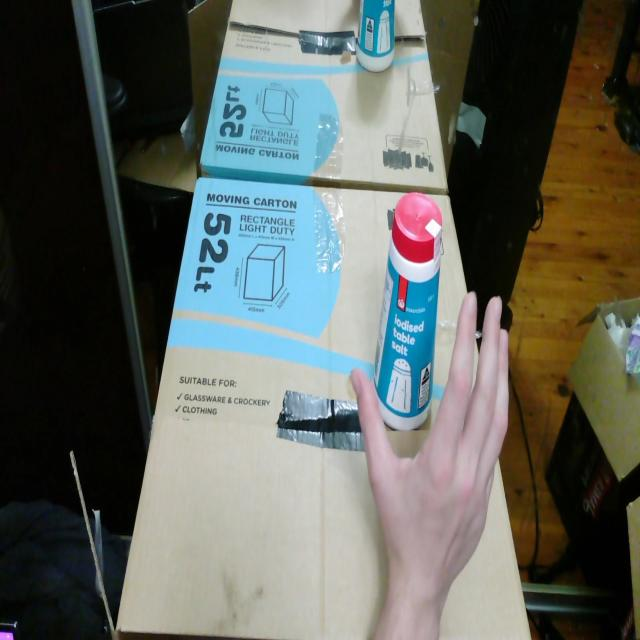woolworths_salt_bottle: (373, 193, 443, 430)
